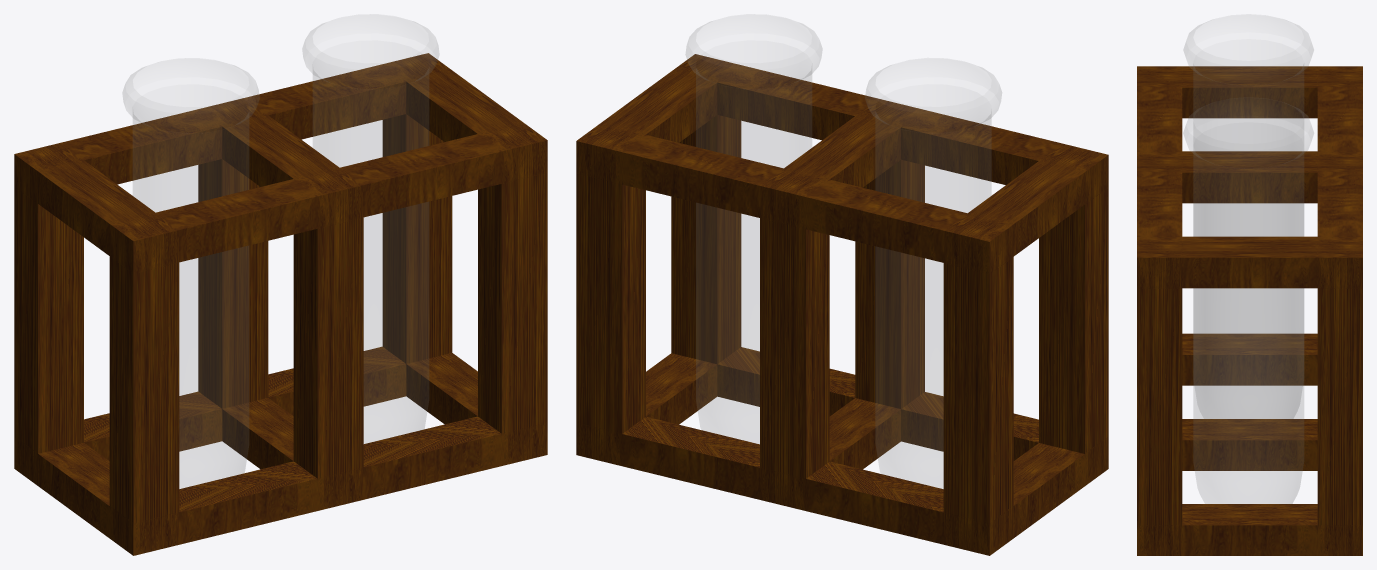
Rendered from Vials.fbx.
3 renders of one model, left to right at view 1: azimuth 30°, elevation 25°; view 2: azimuth 150°, elevation 25°; view 3: azimuth 270°, elevation 25°, orthographic. The views are drawn at different scales.
Visible parts, largest first — view 1: pCube8, pCylinder2, pCylinder1; view 2: pCube8, pCylinder2, pCylinder1; view 3: pCube8, pCylinder1, pCylinder2.
Boxes of the visible parts, x1,y1,x2,y2 form: pCube8: [14, 53, 547, 555]; pCylinder2: [122, 58, 259, 488]; pCylinder1: [302, 14, 439, 443]; pCube8: [576, 54, 1108, 555]; pCylinder2: [865, 65, 1001, 488]; pCylinder1: [685, 14, 822, 443]; pCube8: [1137, 66, 1362, 555]; pCylinder1: [1183, 103, 1313, 503]; pCylinder2: [1183, 20, 1313, 418].
Bounding box in the file's own units: 8.16 × 8.15 × 4.07.
